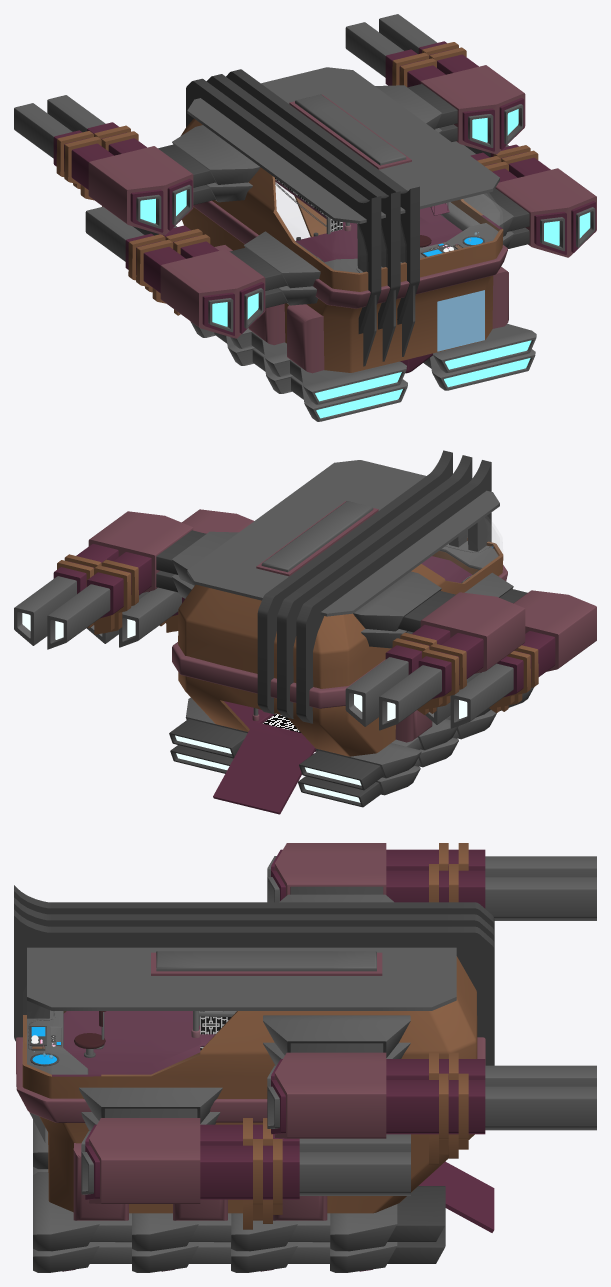
Rendered from Kit Orel.fbx.
3 views of the same model, one above another, from view 1: azimuth 30°, elevation 25°; view 2: azimuth 150°, elevation 25°; view 3: azimuth 270°, elevation 25° (orthographic). The views are drawn at different scales.
Visible parts, largest first — view 1: Kit Orel, TopBlasters1, TopBlasters2, BottomBlasters1, BottomBlasters2; view 2: Kit Orel, TopBlasters2, TopBlasters1, Kit Orel Door.001, BottomBlasters2, BottomBlasters1; view 3: Kit Orel, TopBlasters2, TopBlasters1, BottomBlasters1, BottomBlasters2, Kit Orel Door.001.
Boxes of the visible parts, bbox=[...] form: Kit Orel: bbox=[88, 65, 596, 421]; TopBlasters1: bbox=[53, 41, 478, 206]; TopBlasters2: bbox=[14, 14, 437, 158]; BottomBlasters1: bbox=[125, 144, 550, 315]; BottomBlasters2: bbox=[85, 141, 508, 261]; Kit Orel: bbox=[88, 450, 596, 807]; TopBlasters2: bbox=[14, 576, 441, 730]; TopBlasters1: bbox=[53, 544, 483, 714]; Kit Orel Door.001: bbox=[213, 729, 315, 814]; BottomBlasters2: bbox=[86, 587, 513, 728]; BottomBlasters1: bbox=[149, 591, 555, 713]; Kit Orel: bbox=[14, 843, 494, 1272]; TopBlasters2: bbox=[485, 856, 596, 1130]; TopBlasters1: bbox=[386, 843, 485, 1164]; BottomBlasters1: bbox=[200, 1118, 299, 1229]; BottomBlasters2: bbox=[299, 1134, 410, 1195]; Kit Orel Door.001: bbox=[419, 1161, 494, 1232].
Bounding box in the file's own units: 1442 × 774 × 1411.
